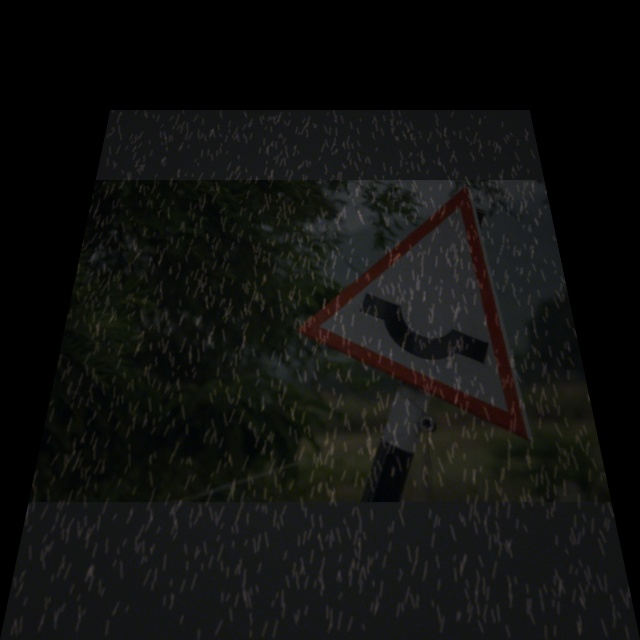Dangerous_Dip: (293, 188, 536, 423)
